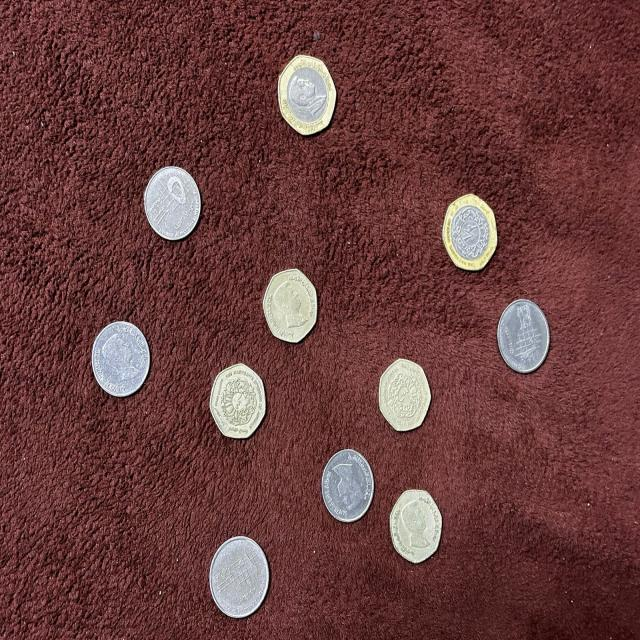10-coins: (210, 535, 271, 619), (495, 294, 550, 374)
25-coins: (211, 364, 269, 440), (390, 486, 445, 566), (262, 270, 320, 344), (377, 357, 433, 432)
5-coins: (90, 320, 152, 398), (142, 166, 204, 242), (320, 446, 375, 523)
50-coins: (276, 56, 337, 136), (441, 192, 499, 271)
